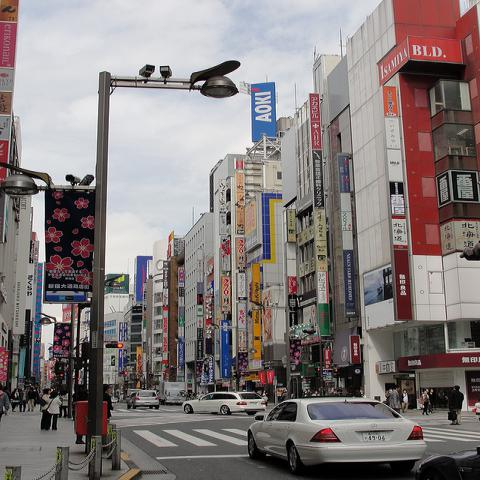car: (246, 396, 426, 475), (184, 389, 266, 415), (418, 446, 479, 480), (129, 391, 160, 409), (112, 398, 118, 404)
truck: (157, 382, 188, 404)
